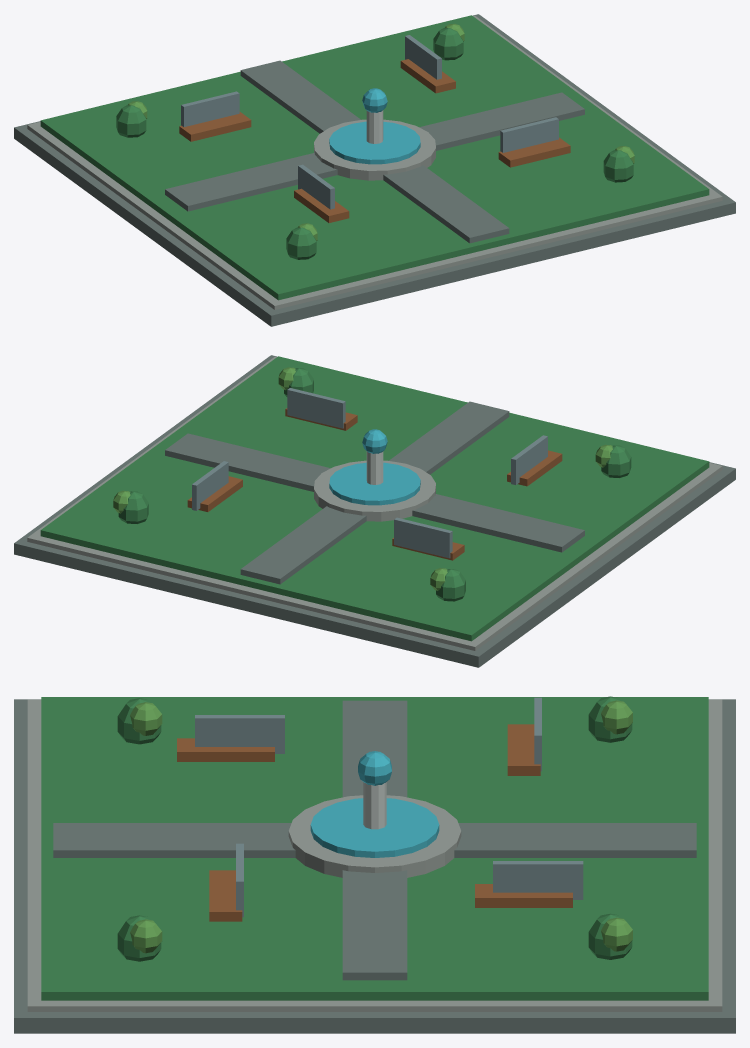
File: park_lv1.glb
The picture shows the model from 3 angles, top to bottom: view 1: azimuth 30°, elevation 25°; view 2: azimuth 150°, elevation 25°; view 3: azimuth 270°, elevation 25°; orthographic projection. The views are drawn at different scales.
Visible parts, largest first — view 1: rough, metallic, glossy; view 2: rough, metallic, glossy; view 3: rough, metallic, glossy.
Part boxes in pixels (x1,y1,x2,y2): rough: [14, 14, 735, 326]; metallic: [181, 35, 558, 209]; glossy: [329, 88, 420, 164]; rough: [14, 355, 735, 667]; metallic: [192, 388, 547, 558]; glossy: [329, 429, 420, 505]; rough: [14, 696, 735, 1033]; metallic: [195, 697, 583, 917]; glossy: [310, 751, 439, 857].
Size of the model in its own units: 9.6 by 1.71 by 9.2.
